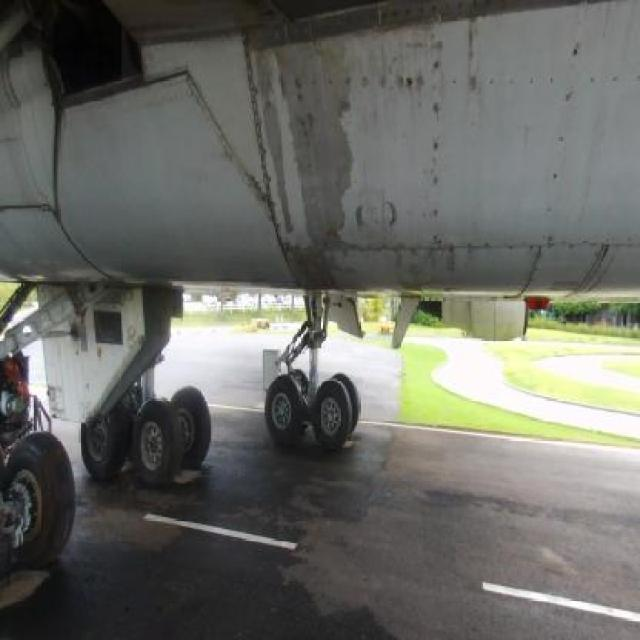Missing-Rivet: (320, 231, 597, 272), (289, 67, 431, 105), (537, 104, 572, 233), (434, 64, 563, 98), (566, 43, 640, 100), (425, 106, 447, 229)
Rust: (455, 12, 488, 58)
Scartch: (246, 27, 368, 296), (374, 242, 469, 302), (341, 173, 405, 232), (378, 16, 452, 64)
